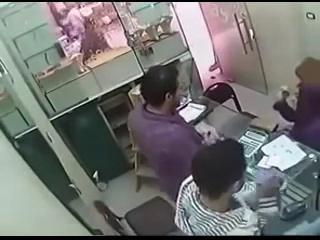Normal: (127, 64, 206, 200), (174, 138, 264, 236), (93, 196, 180, 236), (202, 82, 242, 112), (238, 125, 269, 158), (280, 201, 308, 221)
